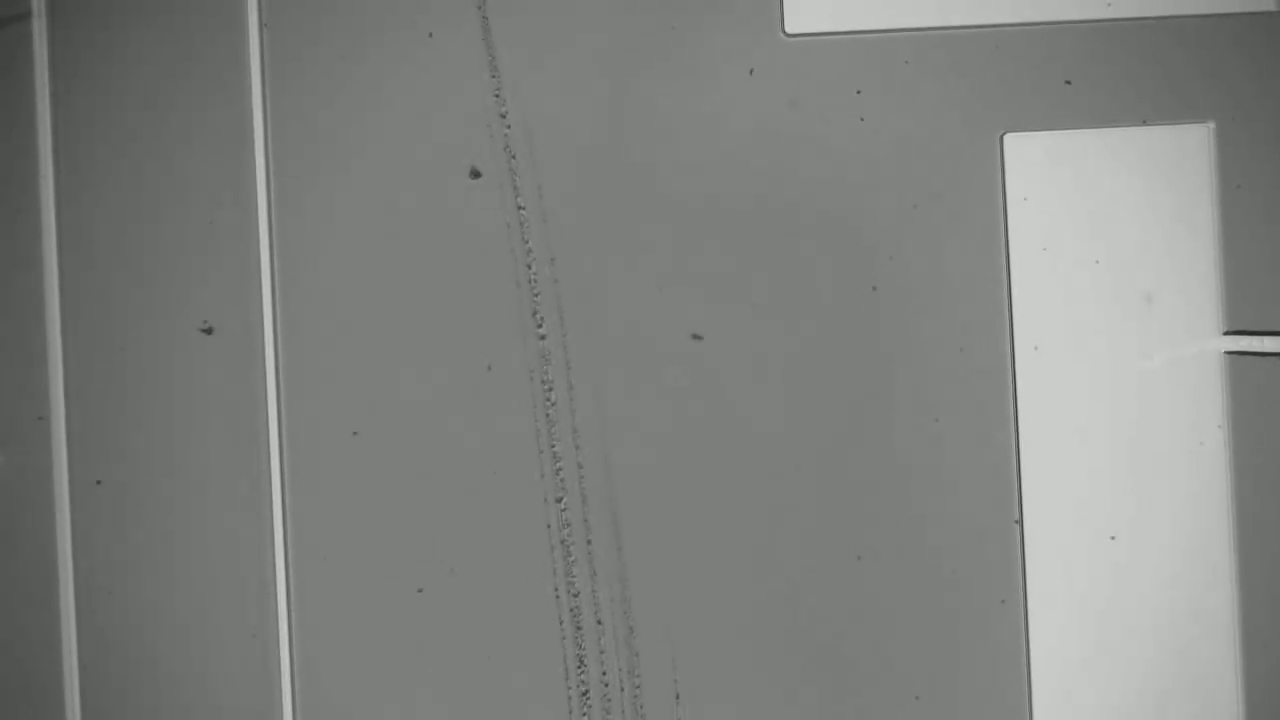Short_circuit: (1193, 304, 1280, 380)
scratch: (485, 7, 688, 707)
